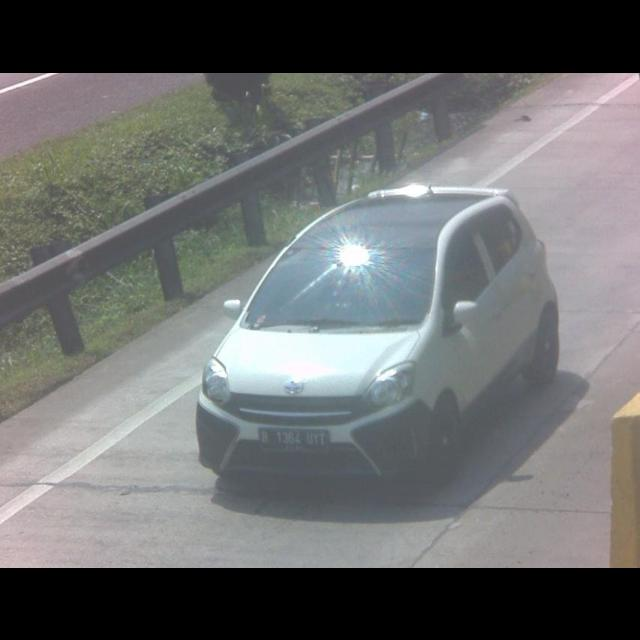plate: (258, 426, 328, 452)
